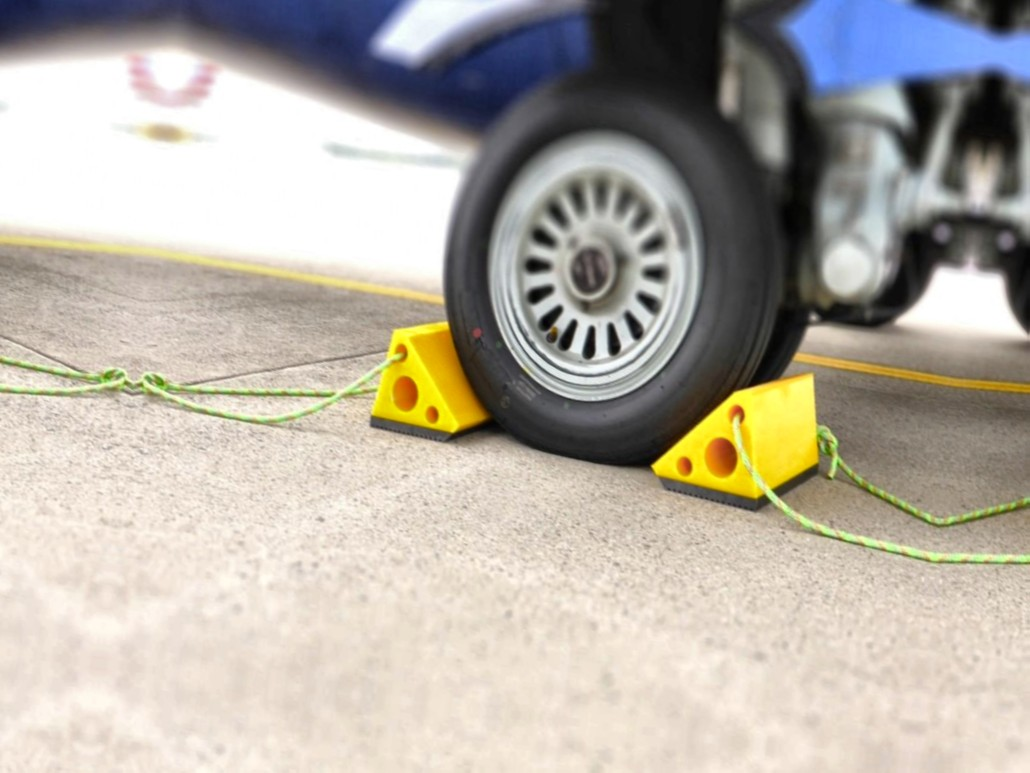chock: (646, 354, 830, 520), (366, 311, 508, 448)
wheel: (424, 58, 799, 481)
